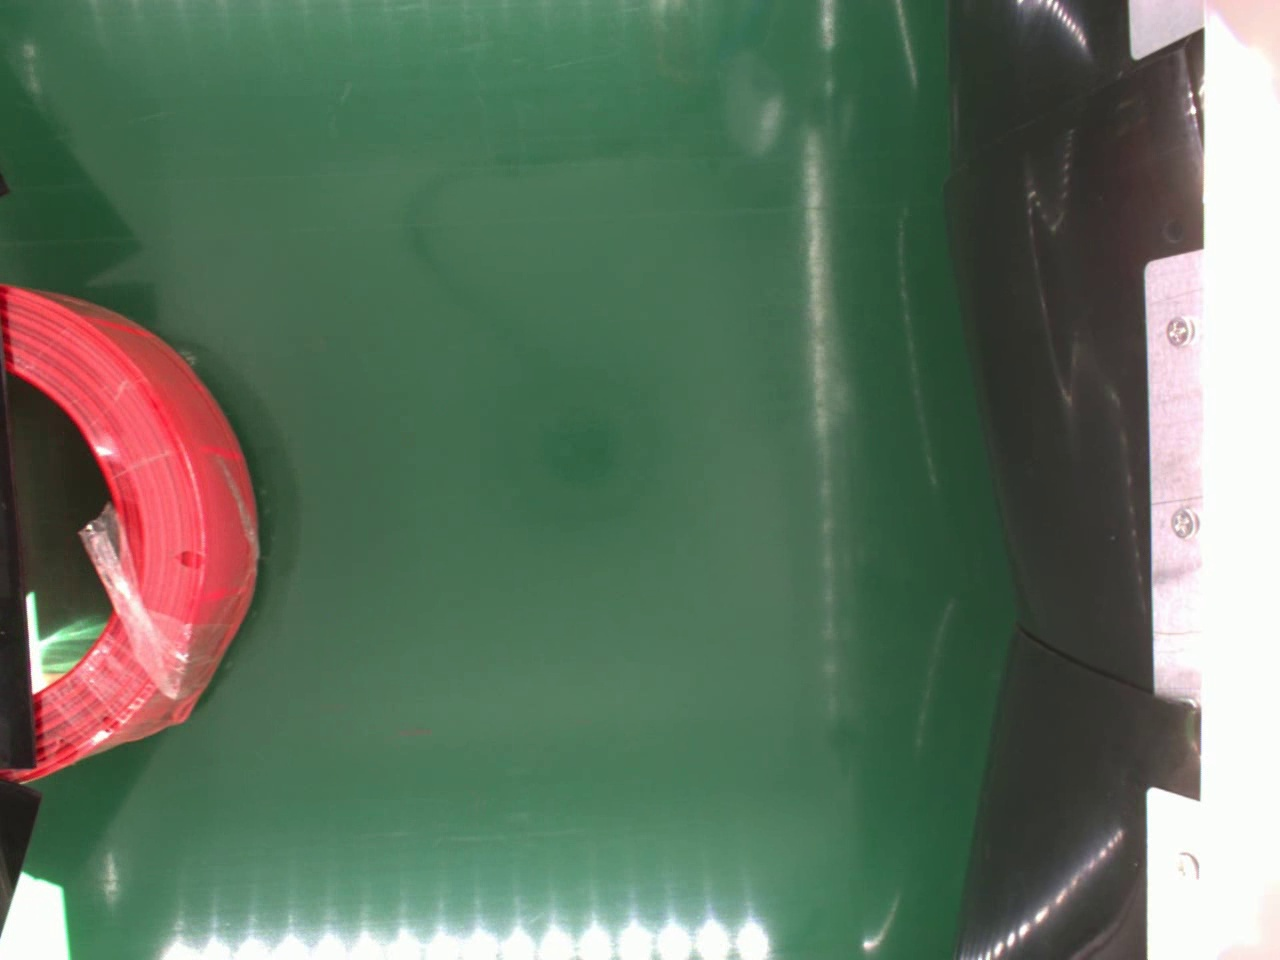red: (1, 287, 269, 790)
